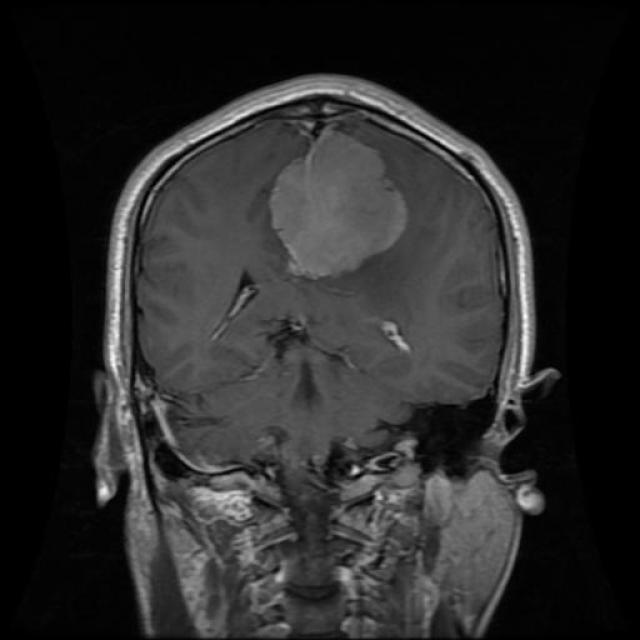meningioma: (271, 126, 409, 280)
